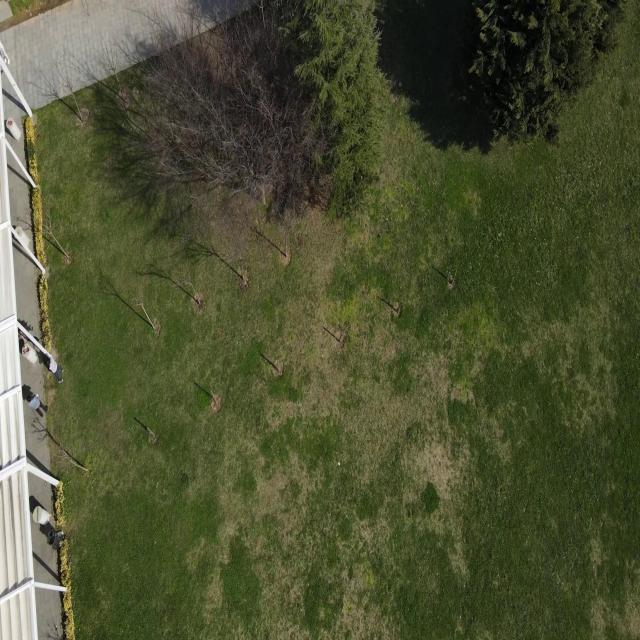p3rson: (26, 393, 48, 418), (46, 357, 64, 384), (0, 41, 10, 65)
